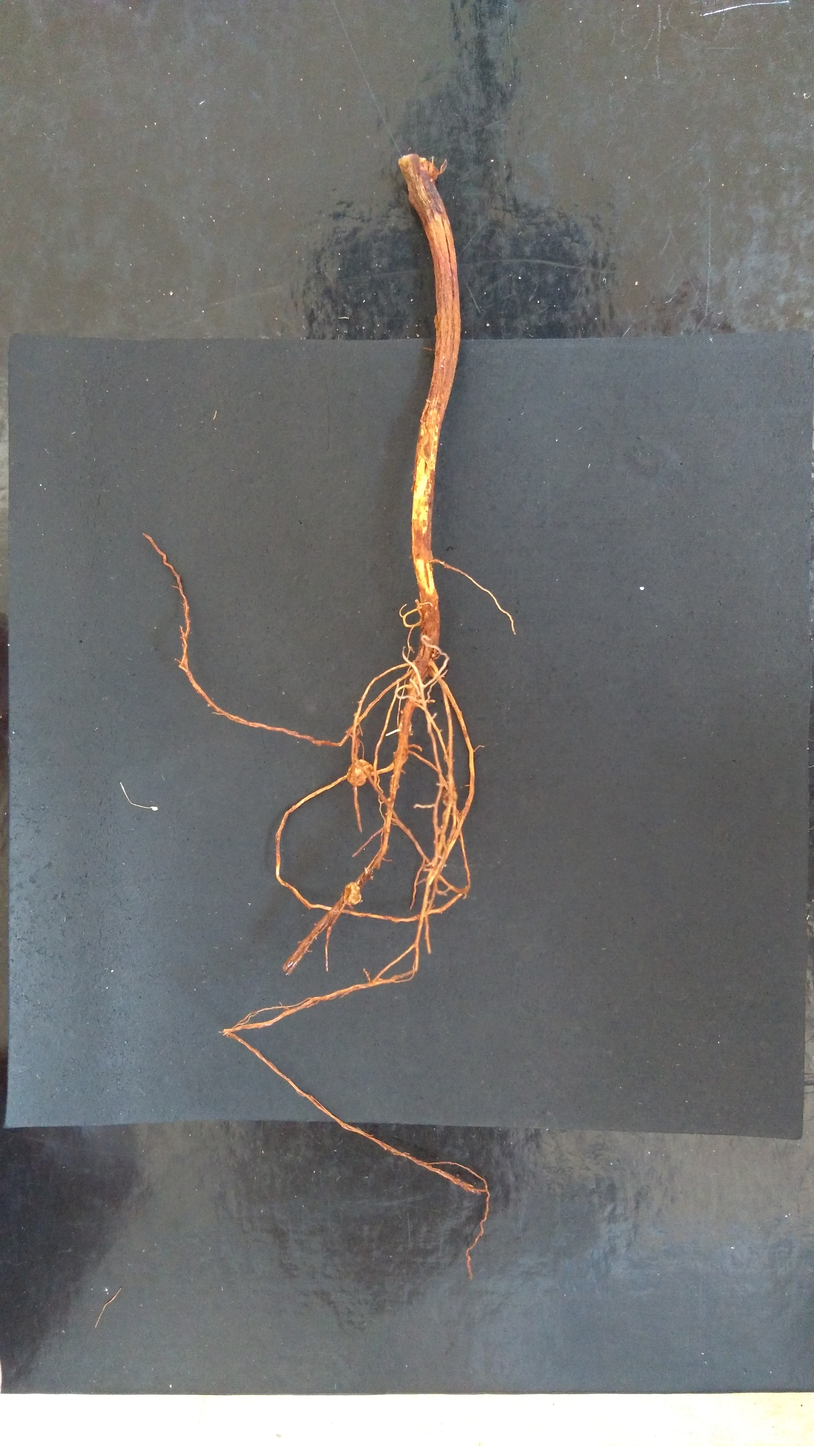nodule: (345, 757, 375, 789), (343, 879, 363, 907), (442, 790, 458, 807)
